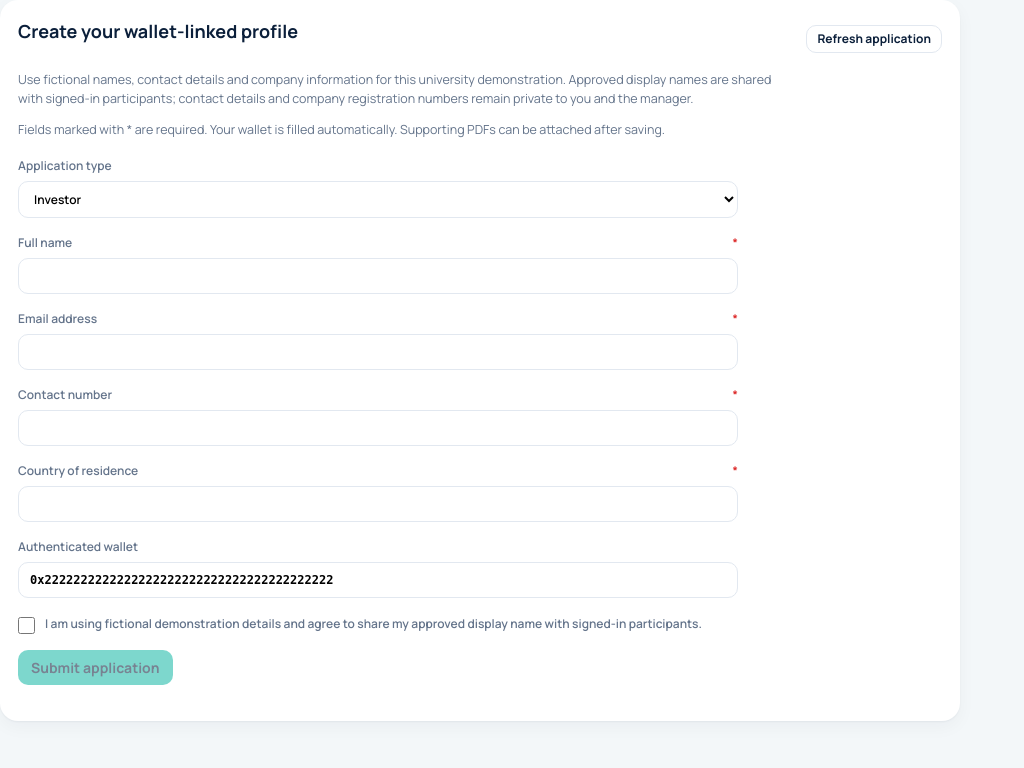
Scenario: new-wallet onboarding and secure registration forms › reports application refresh failure and success with a recoverable button
Click the button "Refresh application" at [874, 38], box [806,24,942,52]
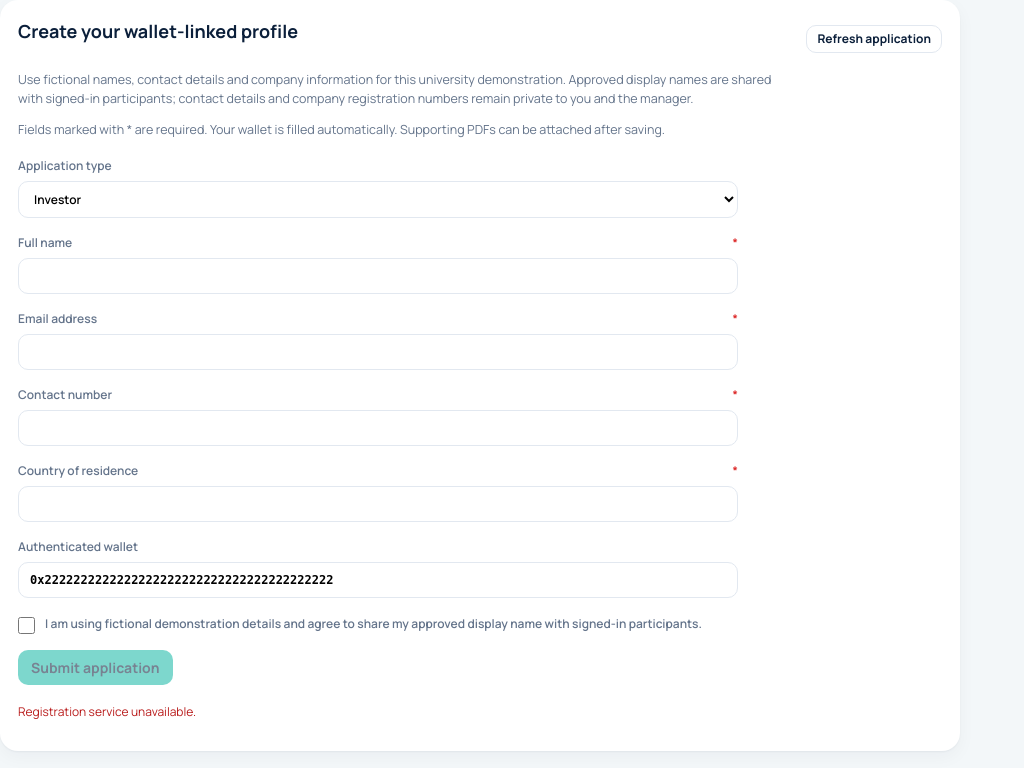
Check: the message reads "Registration service unavailable.", box [18,703,196,720]
Click the button "Refresh application" at [874, 38], box [806,24,942,52]
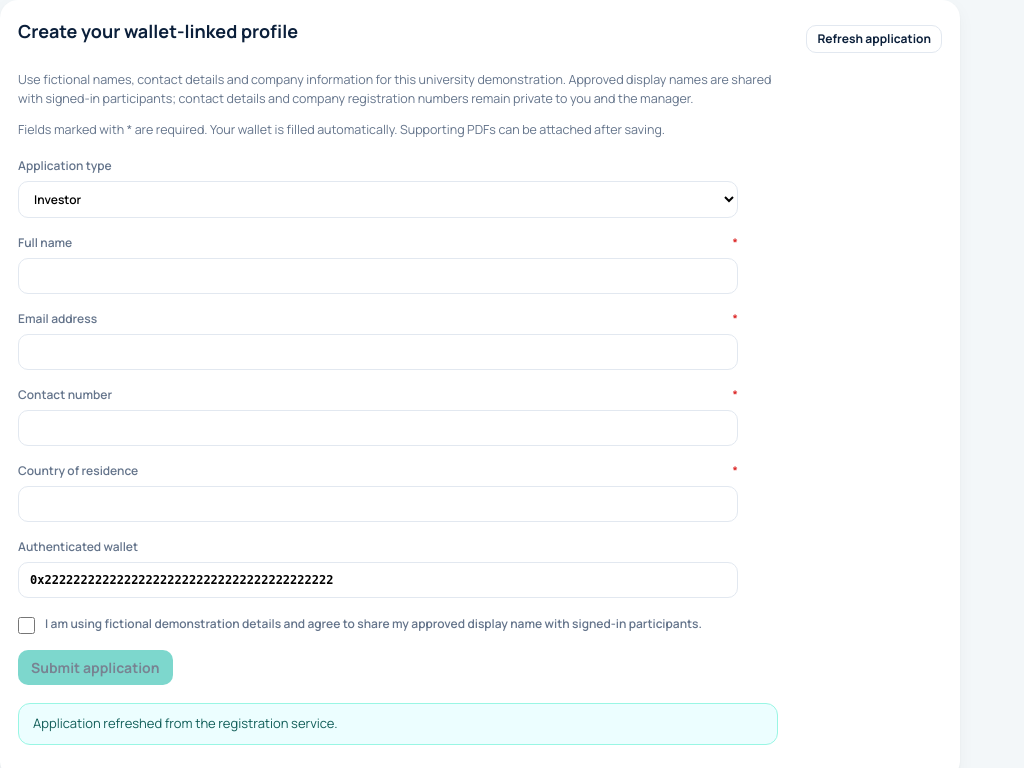
Check: the text "Application refreshed from the registration service." is shown, box [18,703,778,745]
